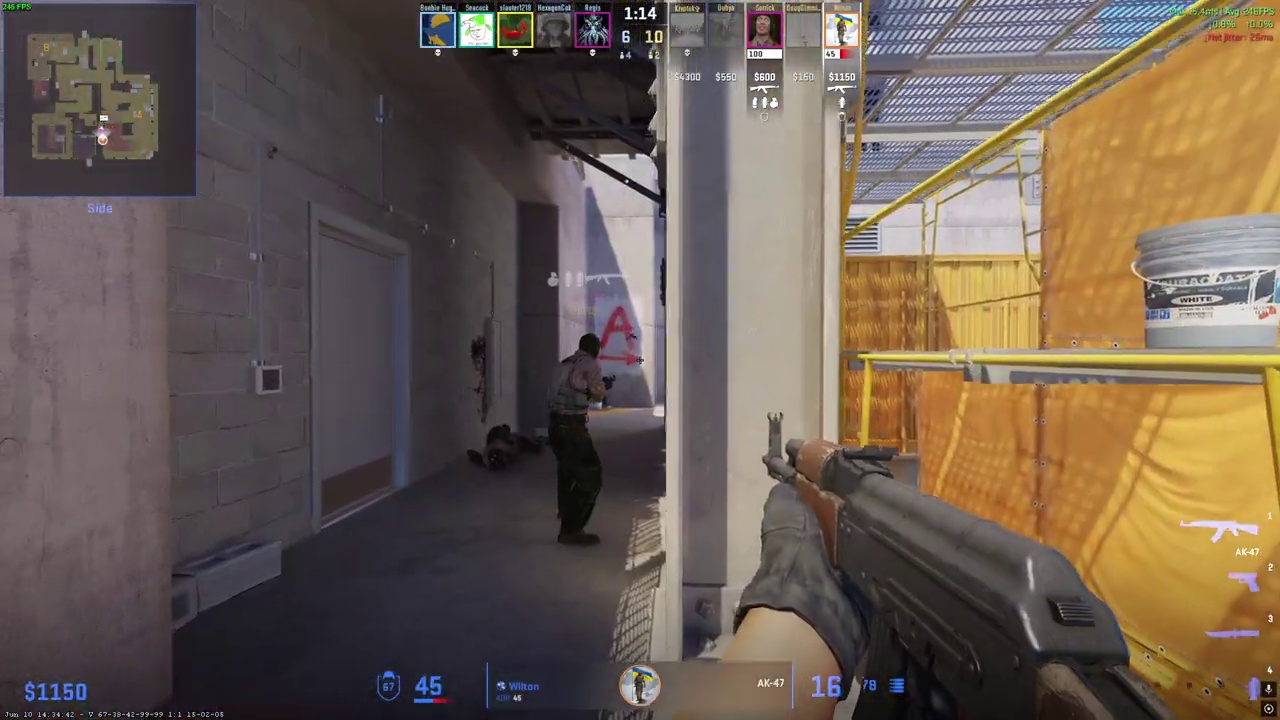Terrorist: (548, 333, 611, 547)
